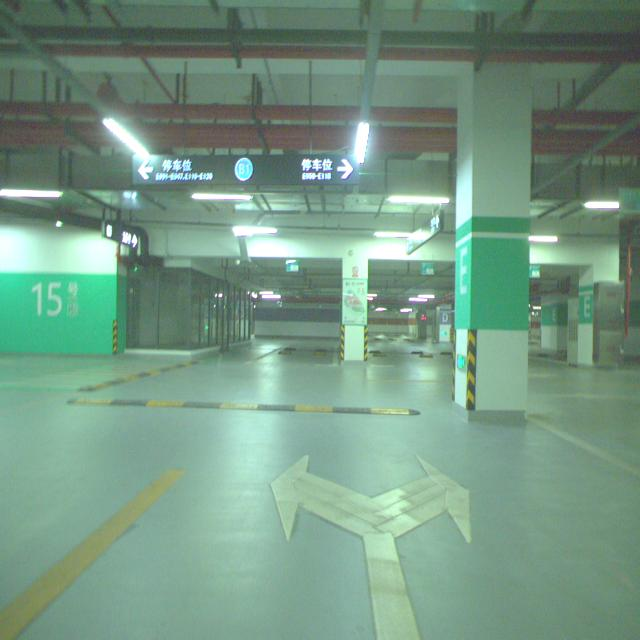pillar: (455, 64, 531, 422)
